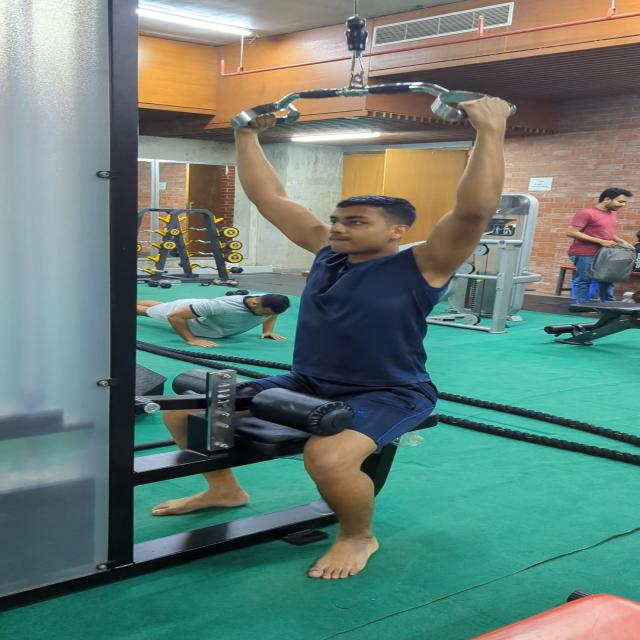Normal_LatPulldown: (163, 100, 530, 585)
